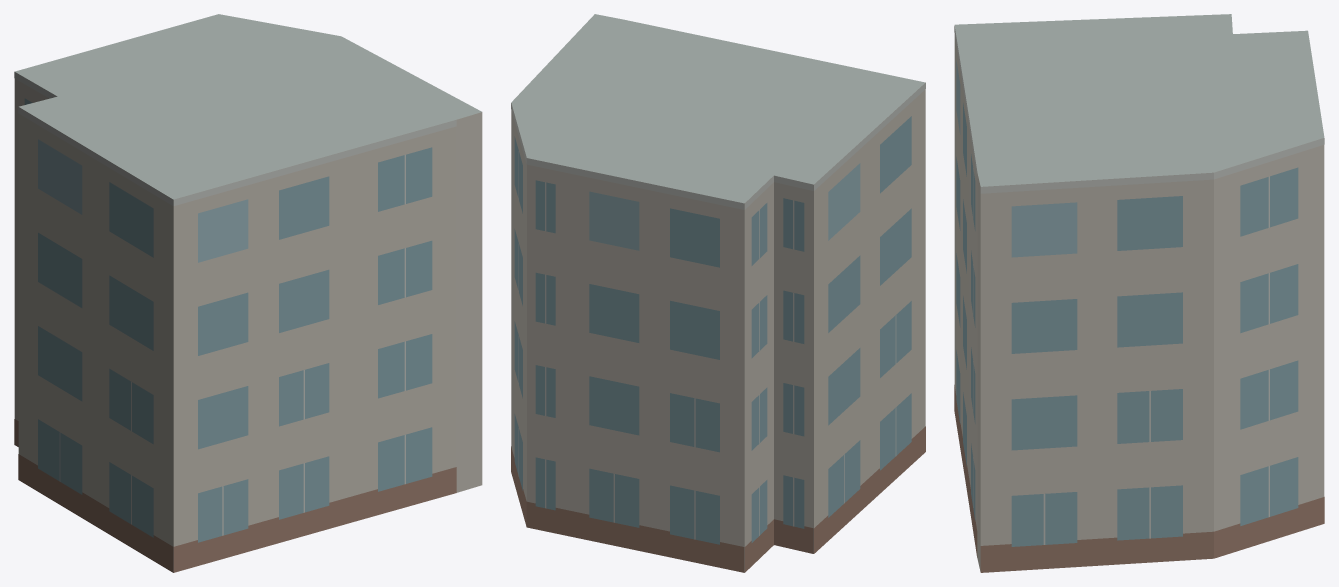
The model's file is survey-upis-32800137.glb.
3 renders of one model, left to right at view 1: azimuth 30°, elevation 25°; view 2: azimuth 150°, elevation 25°; view 3: azimuth 270°, elevation 25°, orthographic. The views are drawn at different scales.
Parts seen in each view (by area): view 1: survey-upis-32800137.tmp; view 2: survey-upis-32800137.tmp; view 3: survey-upis-32800137.tmp.
Part boxes in pixels (x1,y1,x2,y2): survey-upis-32800137.tmp: [14, 14, 482, 572]; survey-upis-32800137.tmp: [511, 14, 925, 572]; survey-upis-32800137.tmp: [954, 14, 1324, 572].
Bounding box in the file's own units: 13.17 × 13.7 × 11.91.
